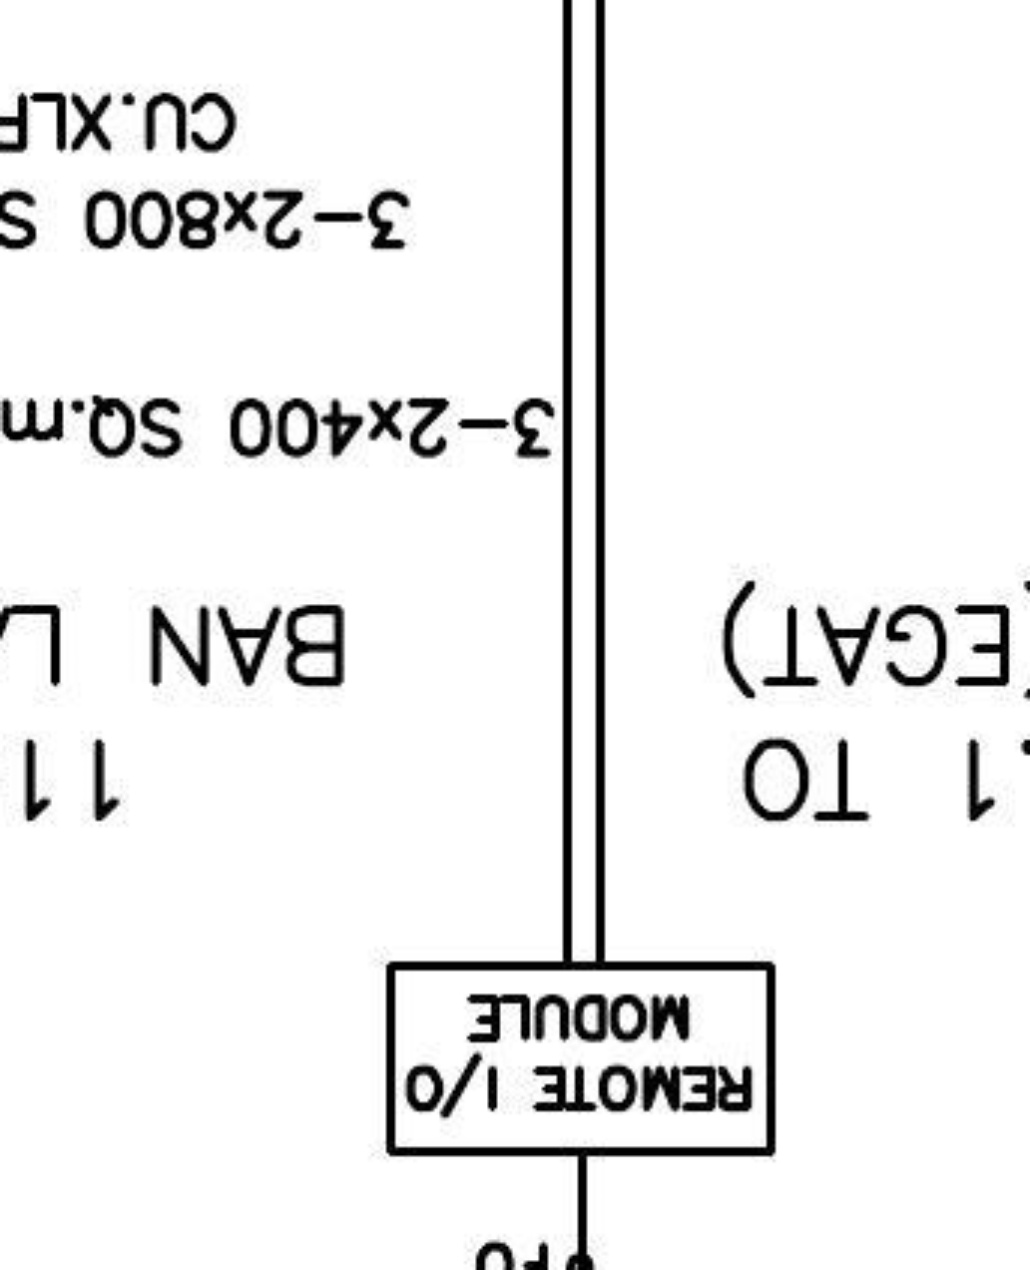remote_io_module: (386, 960, 778, 1156)
